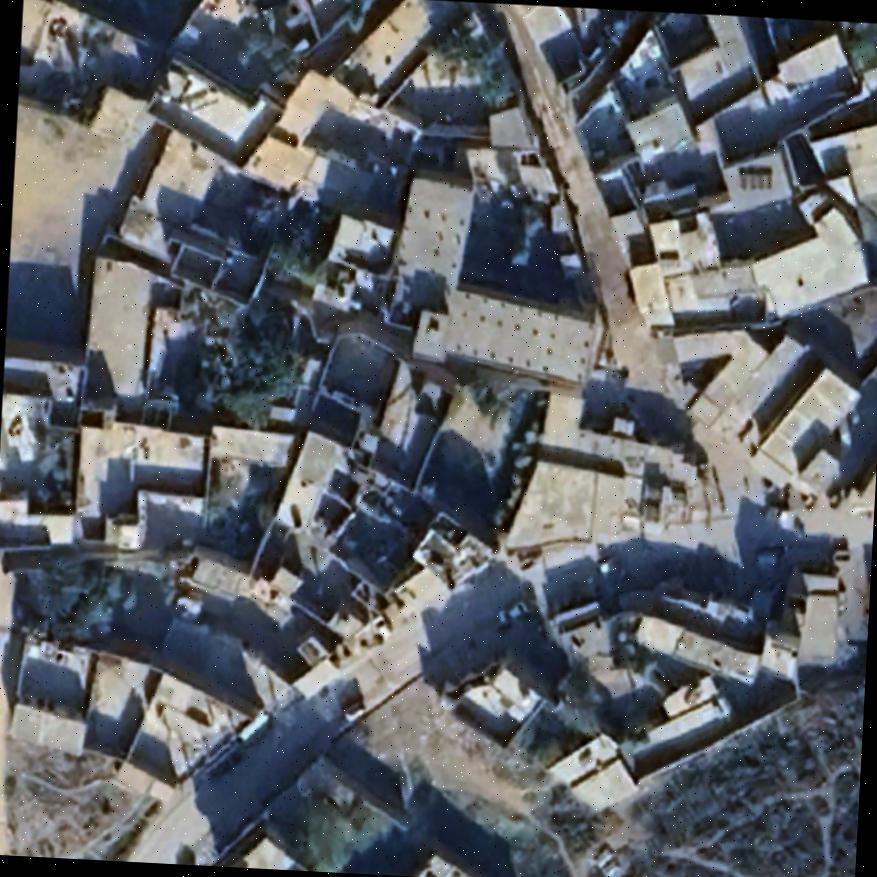Solarpanel: (739, 171, 772, 191)
